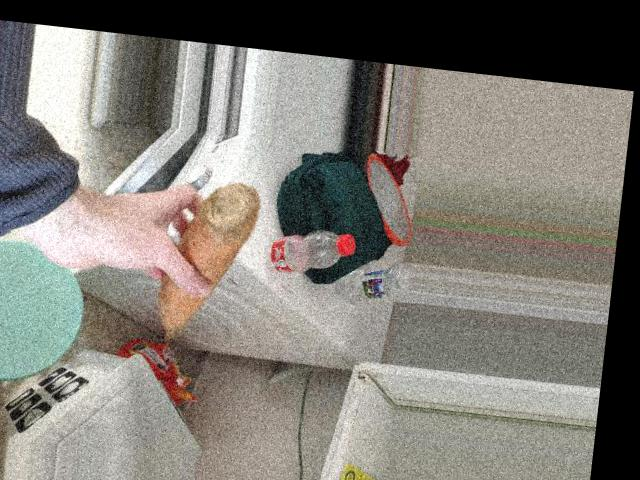sweet_potato: (143, 184, 267, 335)
